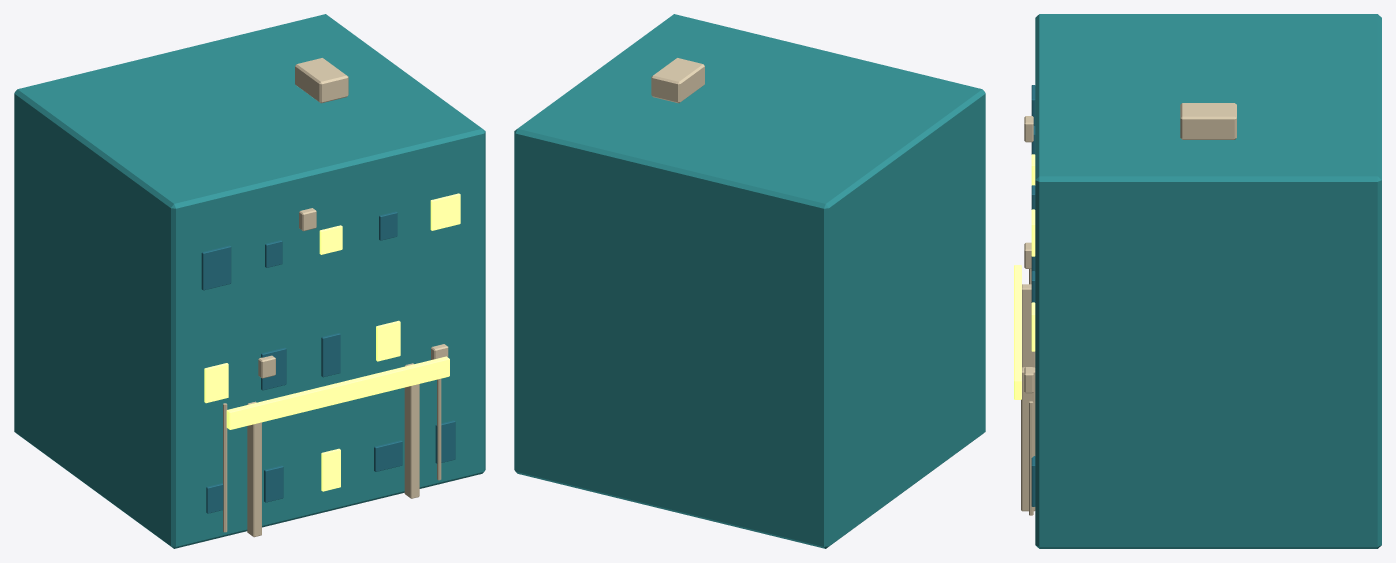
The model's file is building_010_seed100.glb.
3 renders of one model, left to right at view 1: azimuth 30°, elevation 25°; view 2: azimuth 150°, elevation 25°; view 3: azimuth 270°, elevation 25°, orthographic. The views are drawn at different scales.
Parts seen in each view (by area): view 1: building_010_seed100; view 2: building_010_seed100; view 3: building_010_seed100.
Part boxes in pixels (left/top/right/bottom): building_010_seed100: left=14, top=14, right=485, bottom=548; building_010_seed100: left=514, top=14, right=985, bottom=548; building_010_seed100: left=1014, top=14, right=1381, bottom=548.
Size of the model in its own units: 7.62 by 8.48 by 7.14.
